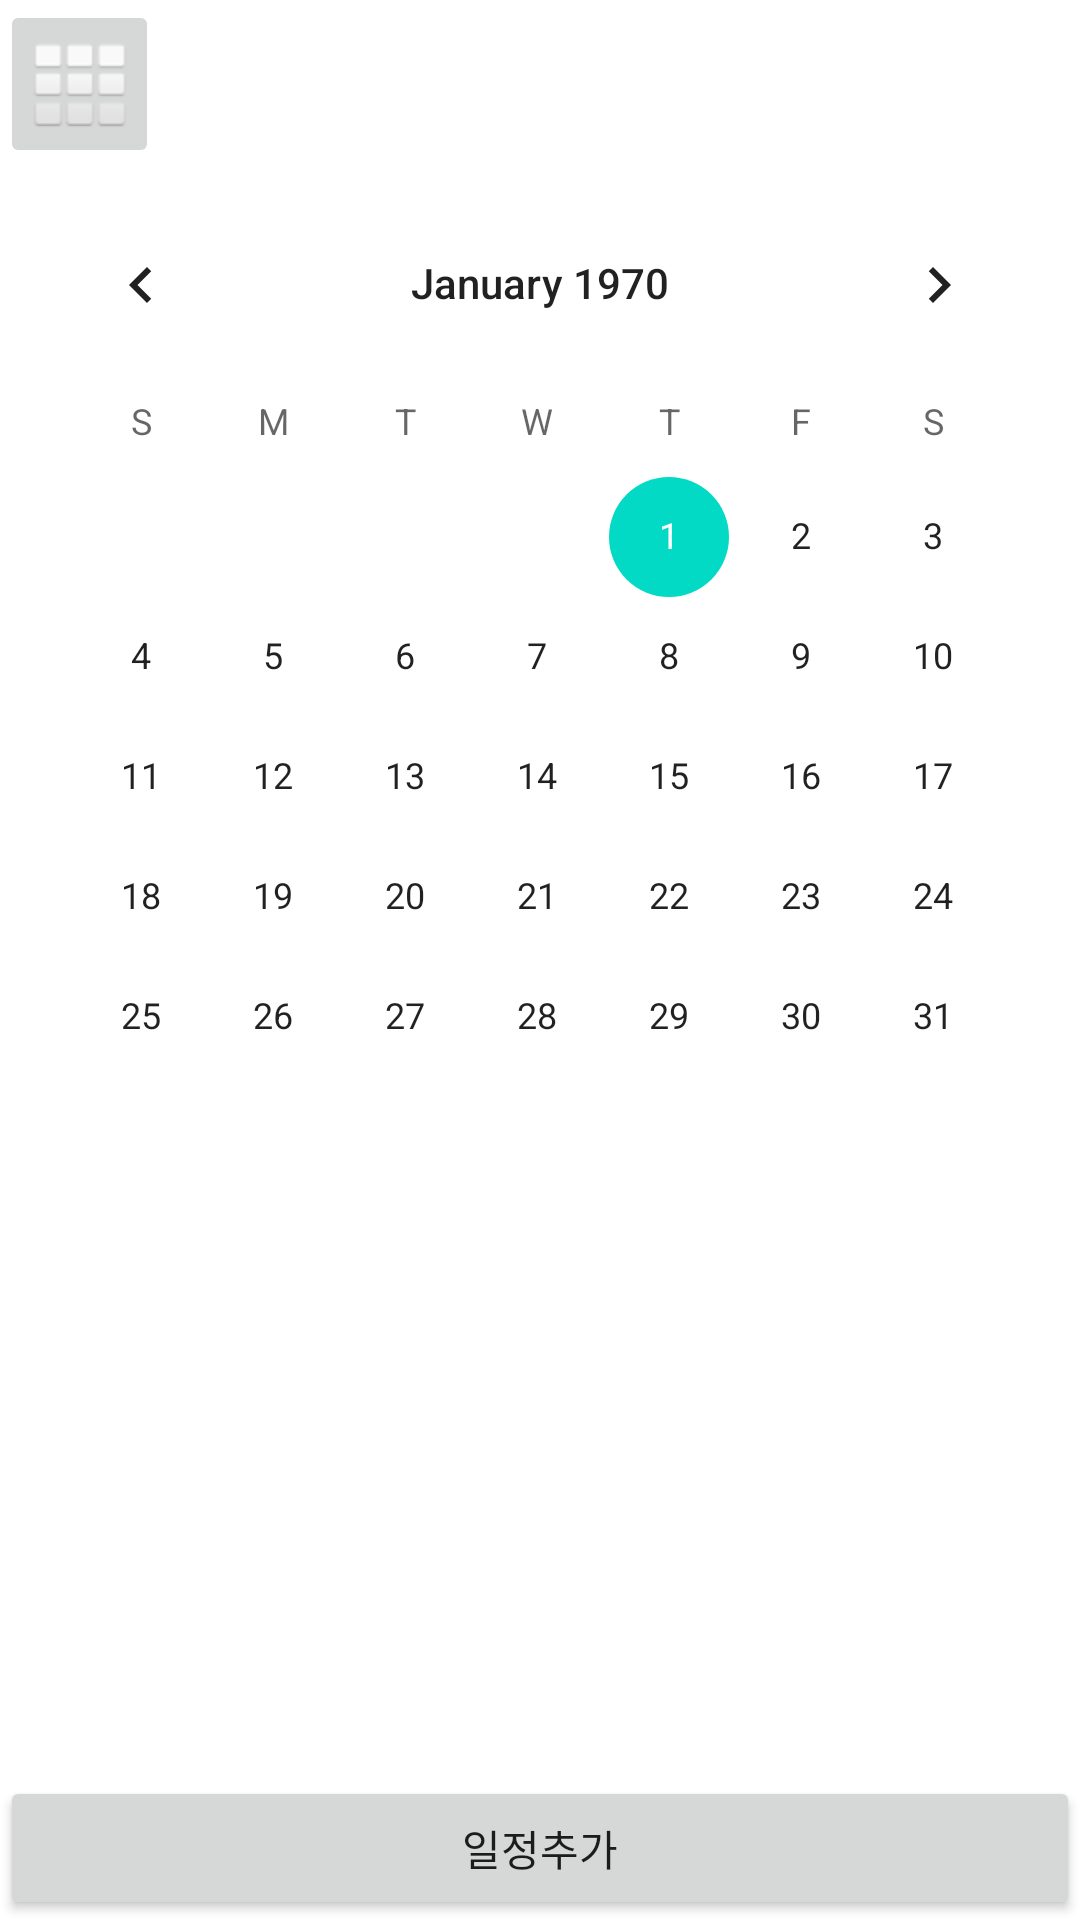

Screen size 1080*1920. Icon name, then its box in pixels as Rect(x1, y1, x2, y2):
dialer: Rect(12, 18, 147, 150)
